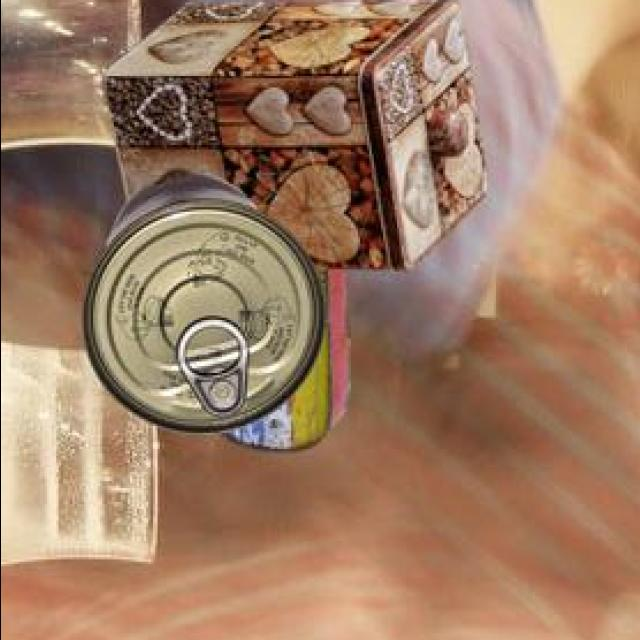logam: (105, 0, 489, 268), (84, 169, 328, 429), (224, 265, 353, 450)
